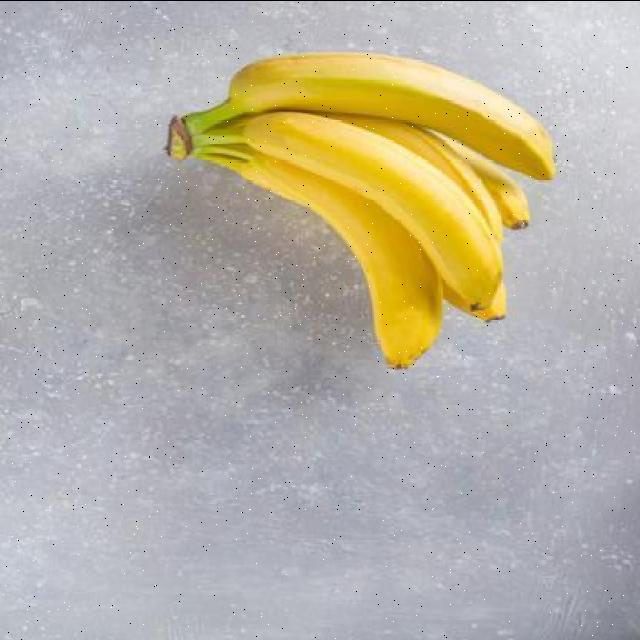banana: (229, 52, 555, 182)
